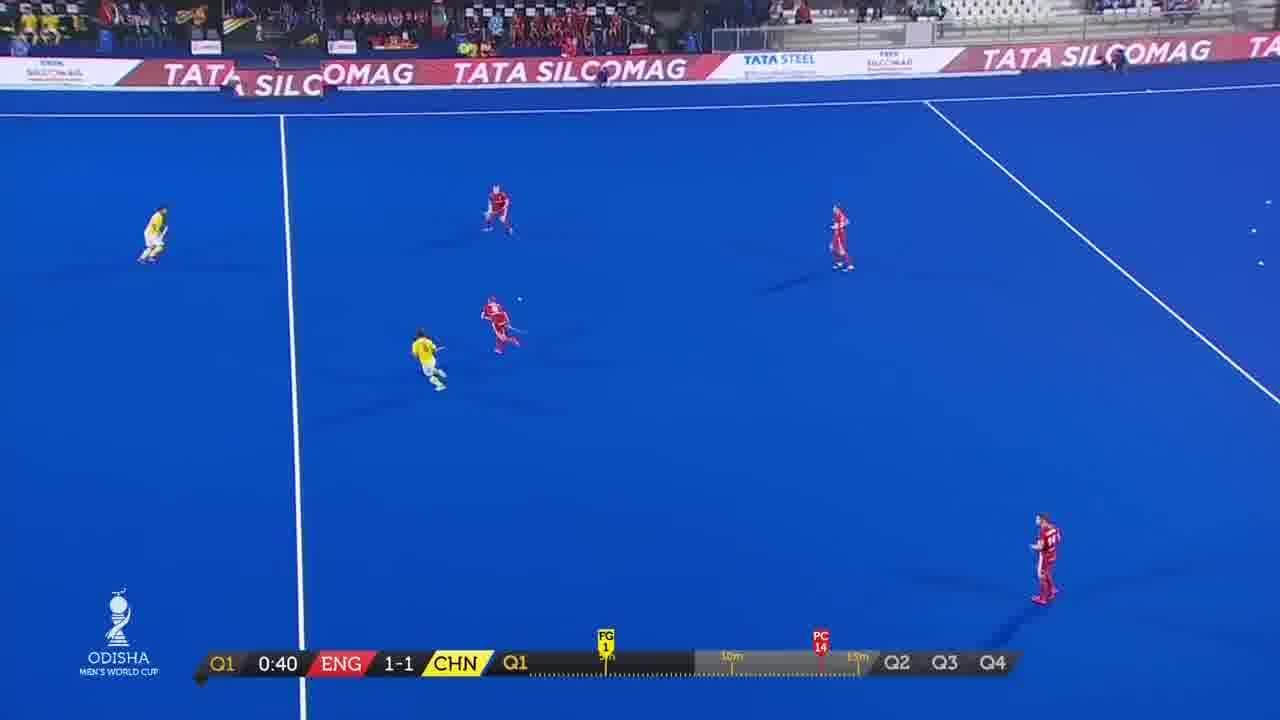ball: (512, 289, 530, 305)
